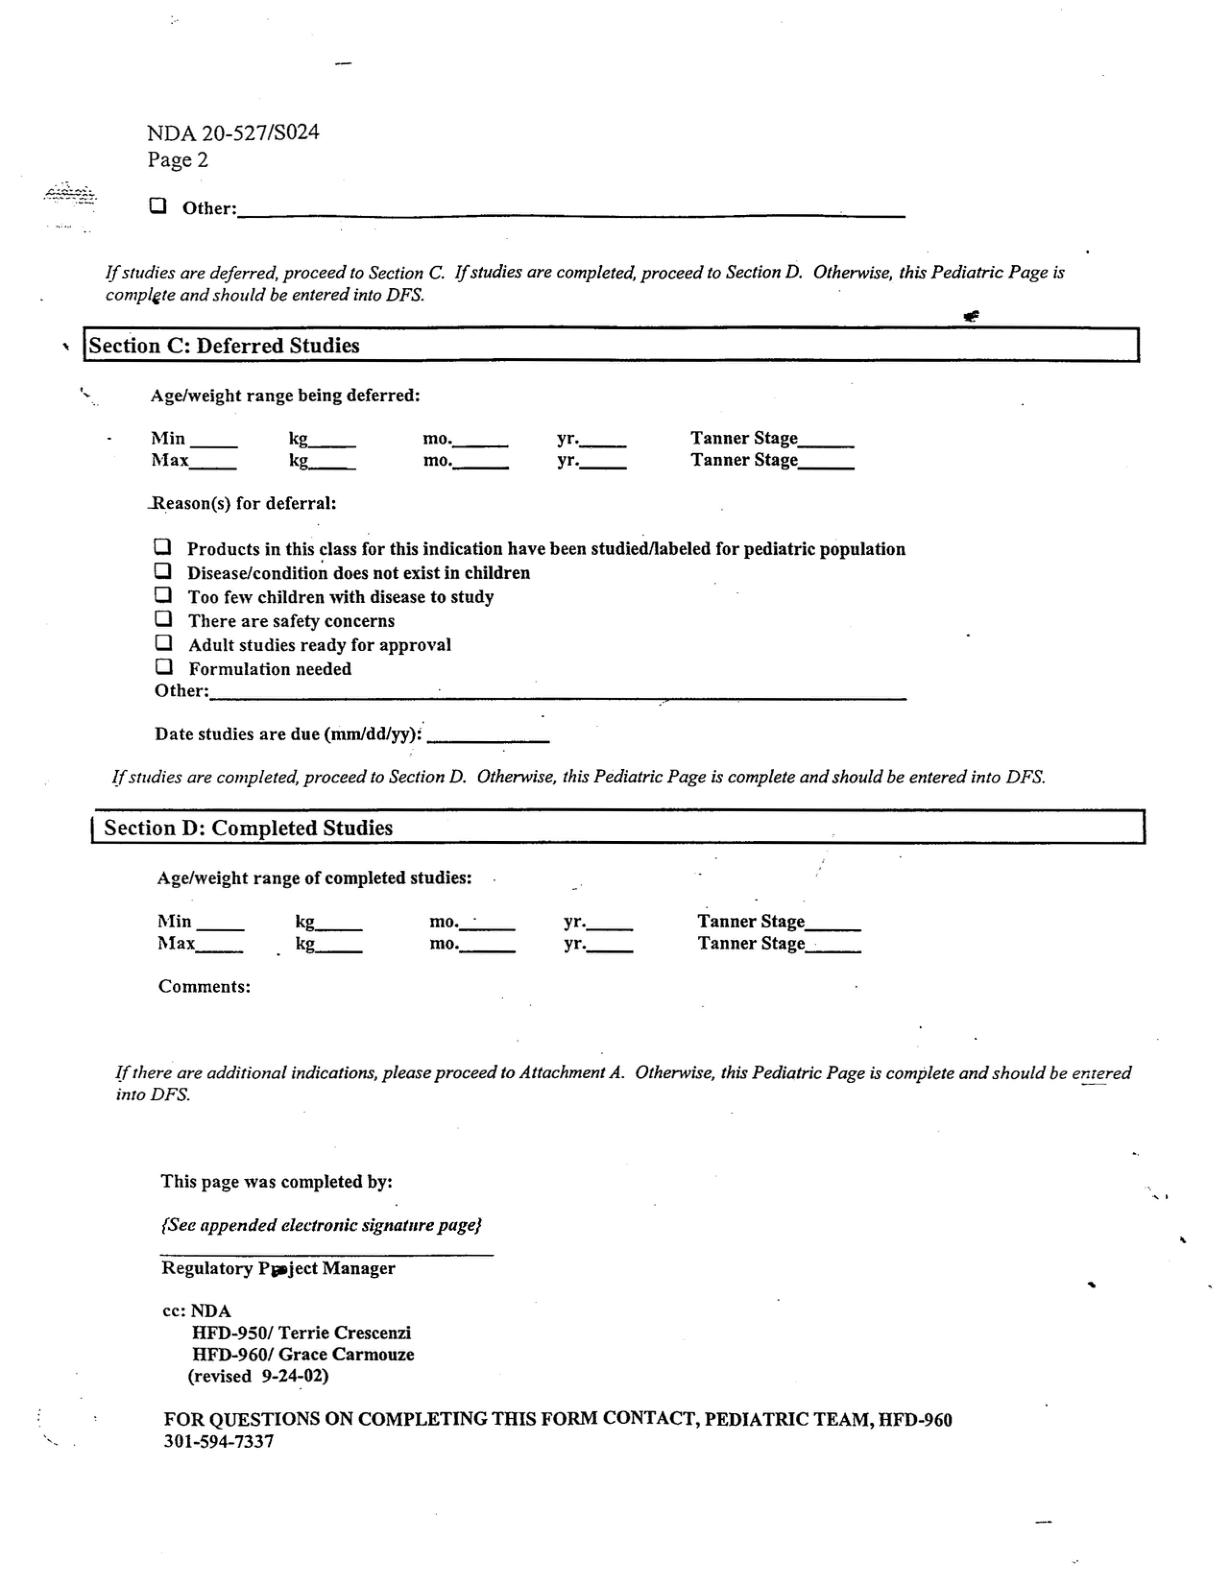nolines: (155, 909, 868, 956), (146, 427, 860, 474)
